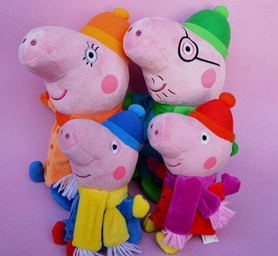Peppa: (145, 92, 245, 246)
